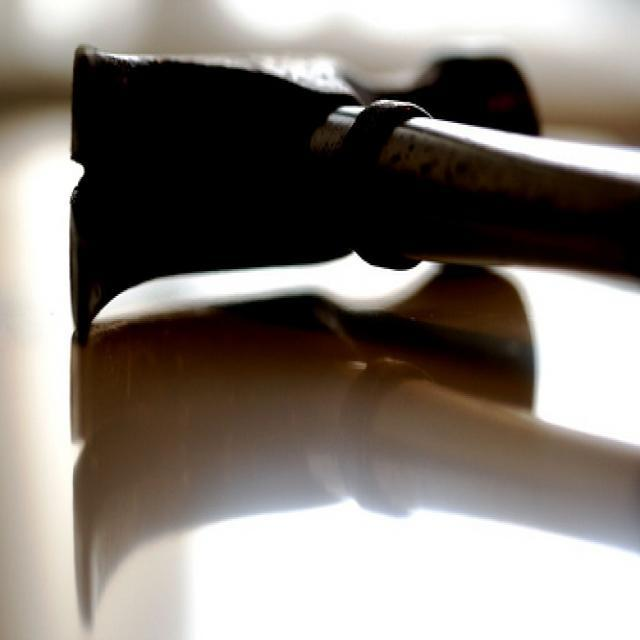hammer: (63, 29, 640, 363)
